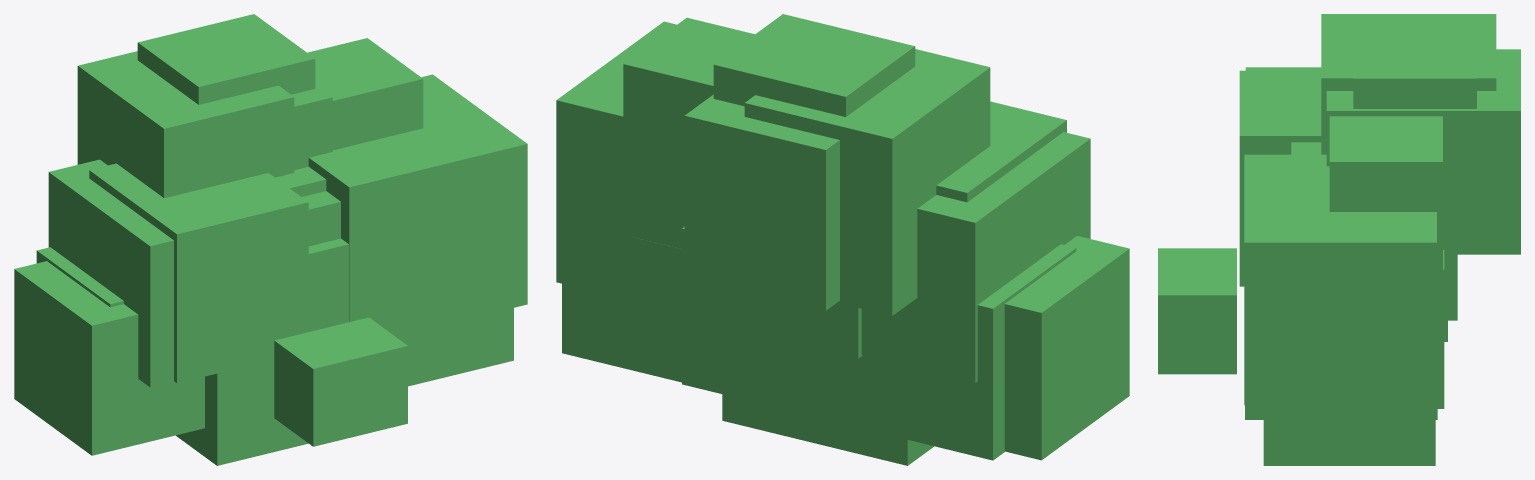
Rendered from triggerable_rock_pile_piece_collisions.glb.
3 views of the same model, side by side, from view 1: azimuth 30°, elevation 25°; view 2: azimuth 150°, elevation 25°; view 3: azimuth 270°, elevation 25° (orthographic). The views are drawn at different scales.
Visible parts, largest first — view 1: triggerable_rock_pile-piece-10-convcol, triggerable_rock_pile-piece-07-convcol, triggerable_rock_pile-piece-00-convcol, triggerable_rock_pile-piece-11-convcol, triggerable_rock_pile-piece-06-convcol, triggerable_rock_pile-piece-15-convcol, triggerable_rock_pile-piece-02-convcol, triggerable_rock_pile-piece-14-convcol, triggerable_rock_pile-piece-13-convcol, triggerable_rock_pile-piece-05-convcol, triggerable_rock_pile-piece-12-convcol, triggerable_rock_pile-piece-09-convcol (+2 smaller); view 2: triggerable_rock_pile-piece-11-convcol, triggerable_rock_pile-piece-12-convcol, triggerable_rock_pile-piece-06-convcol, triggerable_rock_pile-piece-00-convcol, triggerable_rock_pile-piece-10-convcol, triggerable_rock_pile-piece-01-convcol, triggerable_rock_pile-piece-13-convcol, triggerable_rock_pile-piece-14-convcol, triggerable_rock_pile-piece-03-convcol, triggerable_rock_pile-piece-05-convcol, triggerable_rock_pile-piece-08-convcol, triggerable_rock_pile-piece-04-convcol (+2 smaller); view 3: triggerable_rock_pile-piece-10-convcol, triggerable_rock_pile-piece-12-convcol, triggerable_rock_pile-piece-13-convcol, triggerable_rock_pile-piece-14-convcol, triggerable_rock_pile-piece-05-convcol, triggerable_rock_pile-piece-15-convcol, triggerable_rock_pile-piece-07-convcol, triggerable_rock_pile-piece-11-convcol, triggerable_rock_pile-piece-08-convcol, triggerable_rock_pile-piece-03-convcol.
Part boxes in pixels (left/top/right/bottom): triggerable_rock_pile-piece-10-convcol: left=308, top=74, right=527, bottom=336; triggerable_rock_pile-piece-07-convcol: left=89, top=163, right=308, bottom=383; triggerable_rock_pile-piece-00-convcol: left=14, top=261, right=204, bottom=455; triggerable_rock_pile-piece-11-convcol: left=77, top=51, right=294, bottom=198; triggerable_rock_pile-piece-06-convcol: left=48, top=159, right=173, bottom=387; triggerable_rock_pile-piece-15-convcol: left=274, top=317, right=407, bottom=446; triggerable_rock_pile-piece-02-convcol: left=176, top=238, right=348, bottom=465; triggerable_rock_pile-piece-14-convcol: left=137, top=14, right=315, bottom=104; triggerable_rock_pile-piece-13-convcol: left=307, top=38, right=423, bottom=150; triggerable_rock_pile-piece-05-convcol: left=396, top=308, right=513, bottom=386; triggerable_rock_pile-piece-12-convcol: left=291, top=85, right=332, bottom=169; triggerable_rock_pile-piece-09-convcol: left=302, top=191, right=340, bottom=246; triggerable_rock_pile-piece-11-convcol: left=744, top=49, right=990, bottom=315; triggerable_rock_pile-piece-12-convcol: left=684, top=94, right=839, bottom=310; triggerable_rock_pile-piece-06-convcol: left=861, top=132, right=1090, bottom=382; triggerable_rock_pile-piece-00-convcol: left=1004, top=236, right=1129, bottom=460; triggerable_rock_pile-piece-10-convcol: left=556, top=21, right=684, bottom=300; triggerable_rock_pile-piece-01-convcol: left=830, top=244, right=1076, bottom=460; triggerable_rock_pile-piece-13-convcol: left=623, top=17, right=754, bottom=226; triggerable_rock_pile-piece-14-convcol: left=713, top=14, right=915, bottom=116; triggerable_rock_pile-piece-03-convcol: left=682, top=227, right=829, bottom=420; triggerable_rock_pile-piece-05-convcol: left=562, top=283, right=681, bottom=382; triggerable_rock_pile-piece-08-convcol: left=721, top=285, right=862, bottom=358; triggerable_rock_pile-piece-04-convcol: left=634, top=237, right=681, bottom=360; triggerable_rock_pile-piece-10-convcol: left=1244, top=154, right=1436, bottom=405; triggerable_rock_pile-piece-12-convcol: left=1326, top=49, right=1520, bottom=254; triggerable_rock_pile-piece-13-convcol: left=1329, top=116, right=1442, bottom=293; triggerable_rock_pile-piece-14-convcol: left=1353, top=21, right=1476, bottom=108; triggerable_rock_pile-piece-05-convcol: left=1263, top=405, right=1435, bottom=465; triggerable_rock_pile-piece-15-convcol: left=1158, top=248, right=1236, bottom=374; triggerable_rock_pile-piece-07-convcol: left=1239, top=70, right=1321, bottom=286; triggerable_rock_pile-piece-11-convcol: left=1321, top=14, right=1496, bottom=154; triggerable_rock_pile-piece-08-convcol: left=1291, top=142, right=1457, bottom=320; triggerable_rock_pile-piece-03-convcol: left=1437, top=250, right=1444, bottom=408.
Size of the model in its own units: 2.38 by 1.78 by 1.75.
